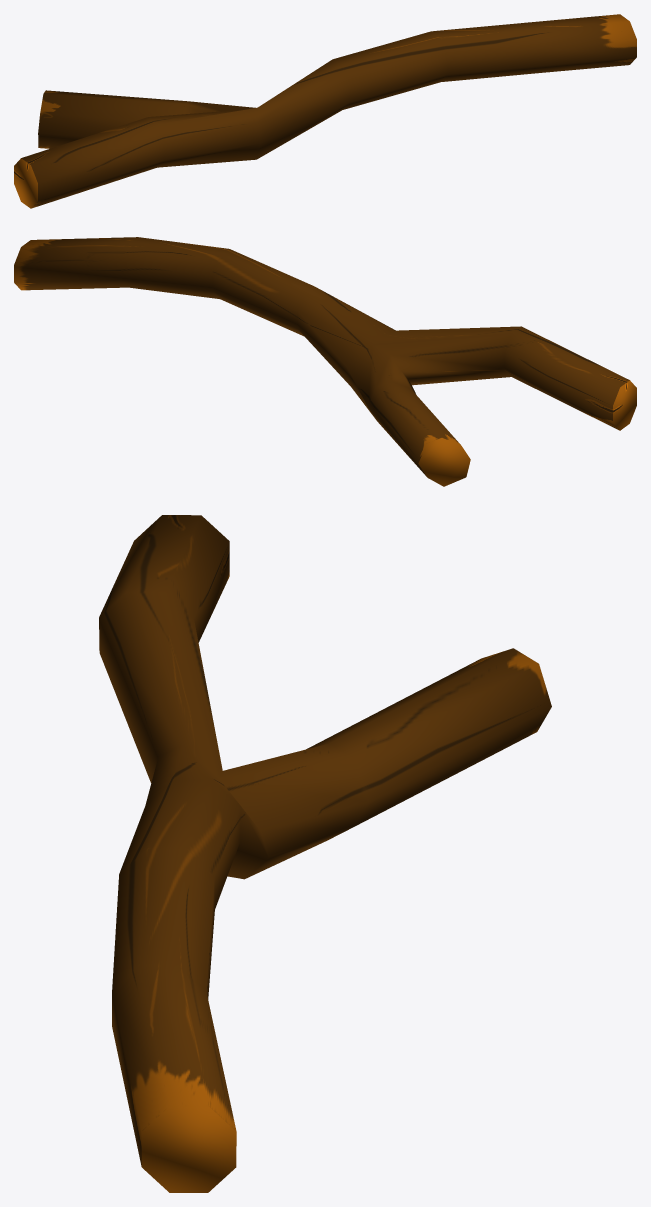
File: Stick1.fbx
3 views of the same model, one above another, from view 1: azimuth 30°, elevation 25°; view 2: azimuth 150°, elevation 25°; view 3: azimuth 270°, elevation 25° (orthographic). The views are drawn at different scales.
Parts seen in each view (by area): view 1: Cube.002; view 2: Cube.002; view 3: Cube.002.
Boxes of the visible parts, x1,y1,x2,y2 form: Cube.002: (14, 14, 636, 208); Cube.002: (14, 237, 636, 486); Cube.002: (99, 515, 551, 1192).
Size of the model in its own units: 112 by 17.48 by 36.69.
Materials: 1 (1 with a texture image).
